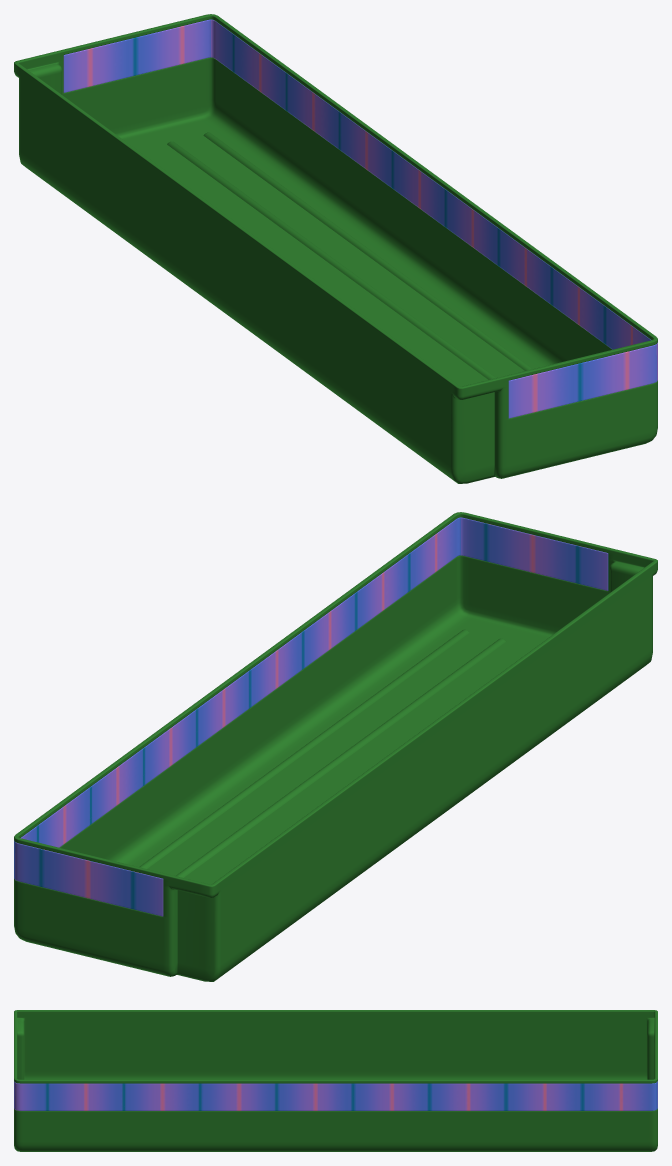
File: SM_Fridge_Door_Tray_02.fbx
3 renders of one model, top to bottom at view 1: azimuth 30°, elevation 25°; view 2: azimuth 150°, elevation 25°; view 3: azimuth 270°, elevation 25°, orthographic. The views are drawn at different scales.
Visible parts, largest first — view 1: SM_Fridge_Door_Tray_02; view 2: SM_Fridge_Door_Tray_02; view 3: SM_Fridge_Door_Tray_02.
Boxes of the visible parts, x1,y1,x2,y2 form: SM_Fridge_Door_Tray_02: (14,14,657,483); SM_Fridge_Door_Tray_02: (14,512,657,981); SM_Fridge_Door_Tray_02: (14,1010,657,1151).
Bounding box in the file's own units: 11 × 5.38 × 42.2.
Materials: 2 (1 with a texture image).
